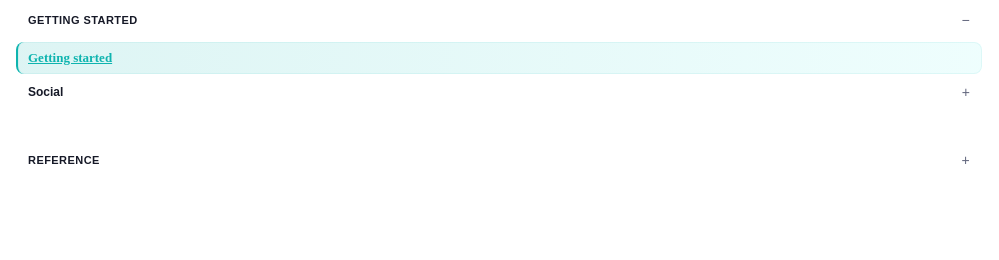
Test case: docs components › collapses inactive desktop sections and expands a nested group on demand
Click the button "Social +": (46, 92) [16,76,982,108]
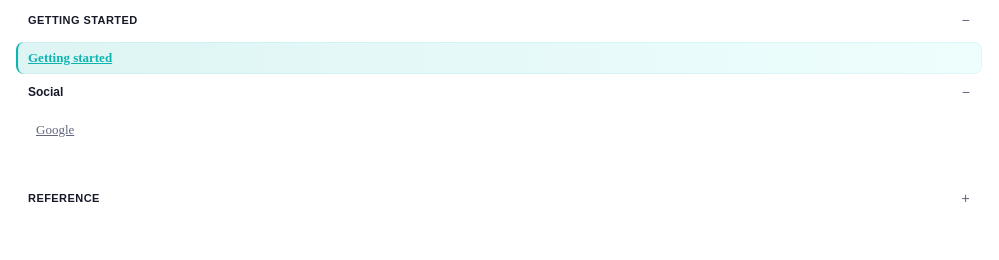
Click the button "Reference +": (64, 198) [16,182,982,214]
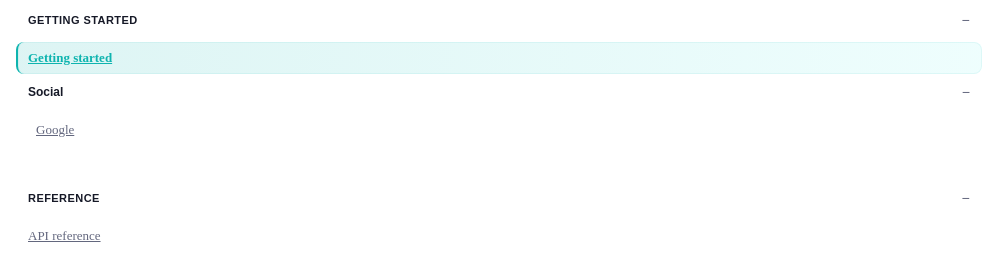
Check: the link "API reference" is shown, box [28,228,100,243]
